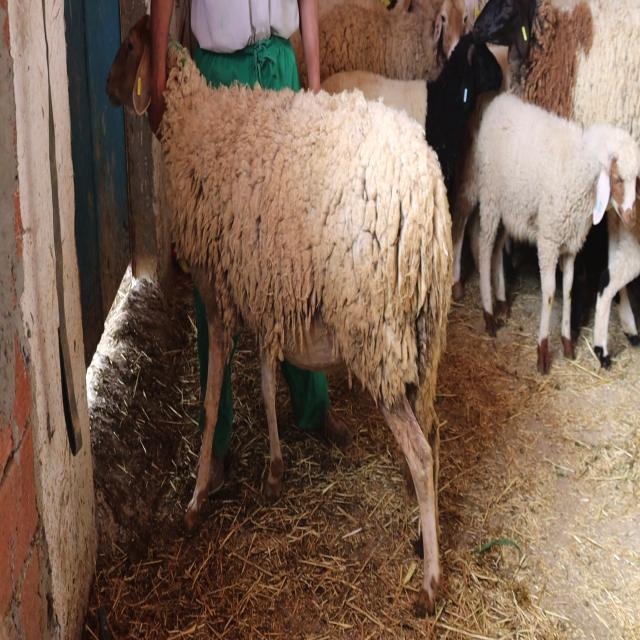Score_5: (157, 46, 453, 613)
